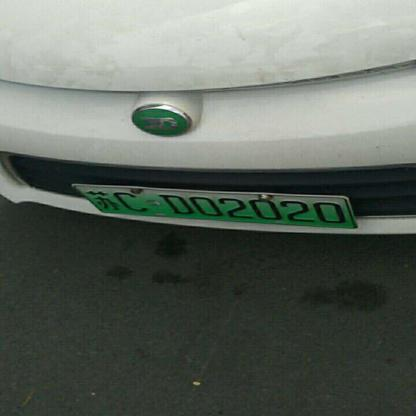lp: (73, 185, 356, 227)
